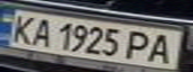1: (51, 19, 75, 52)
2: (84, 24, 106, 56)
5: (103, 25, 127, 60)
9: (69, 21, 90, 54)
A: (142, 32, 184, 65), (27, 16, 57, 48)
K: (3, 12, 42, 44)
P: (124, 29, 157, 62)
